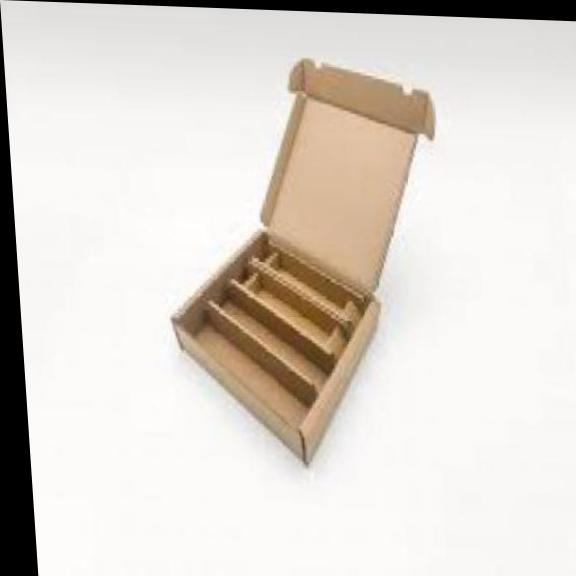Kertas: (174, 60, 434, 462)
